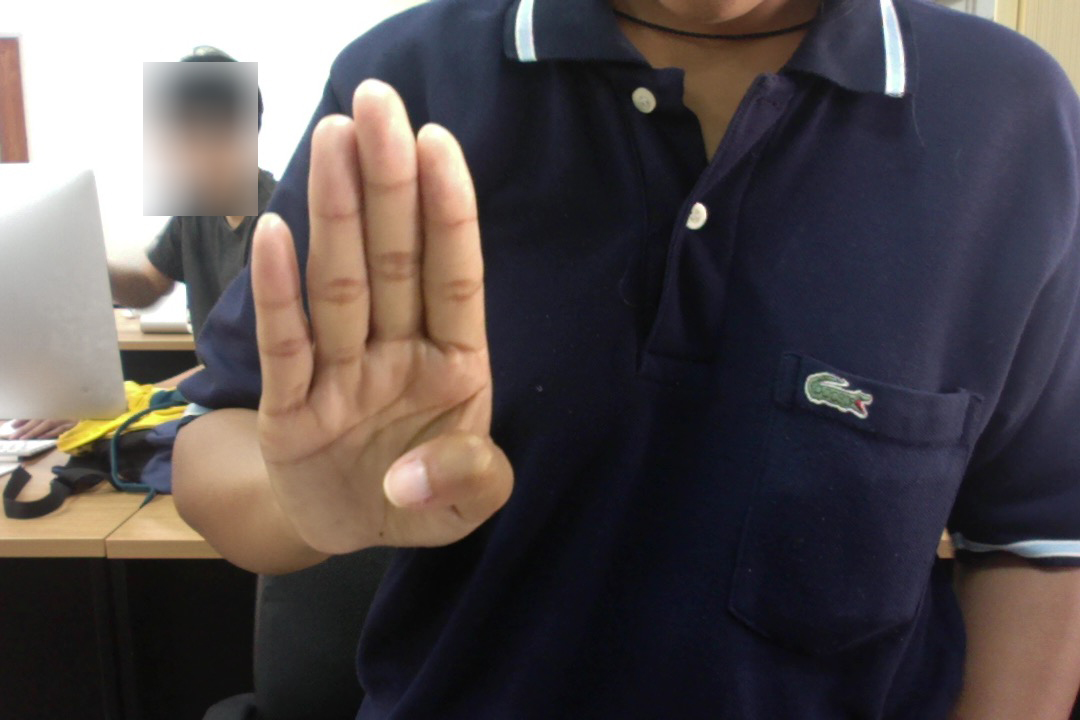bor: (239, 67, 523, 575)
